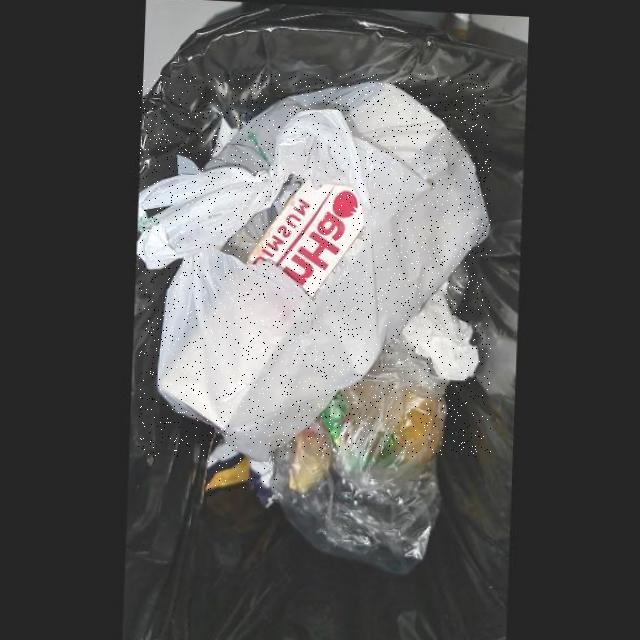paper: (247, 176, 365, 294)
plastic: (138, 74, 491, 457)
wrapper: (207, 438, 280, 501)
